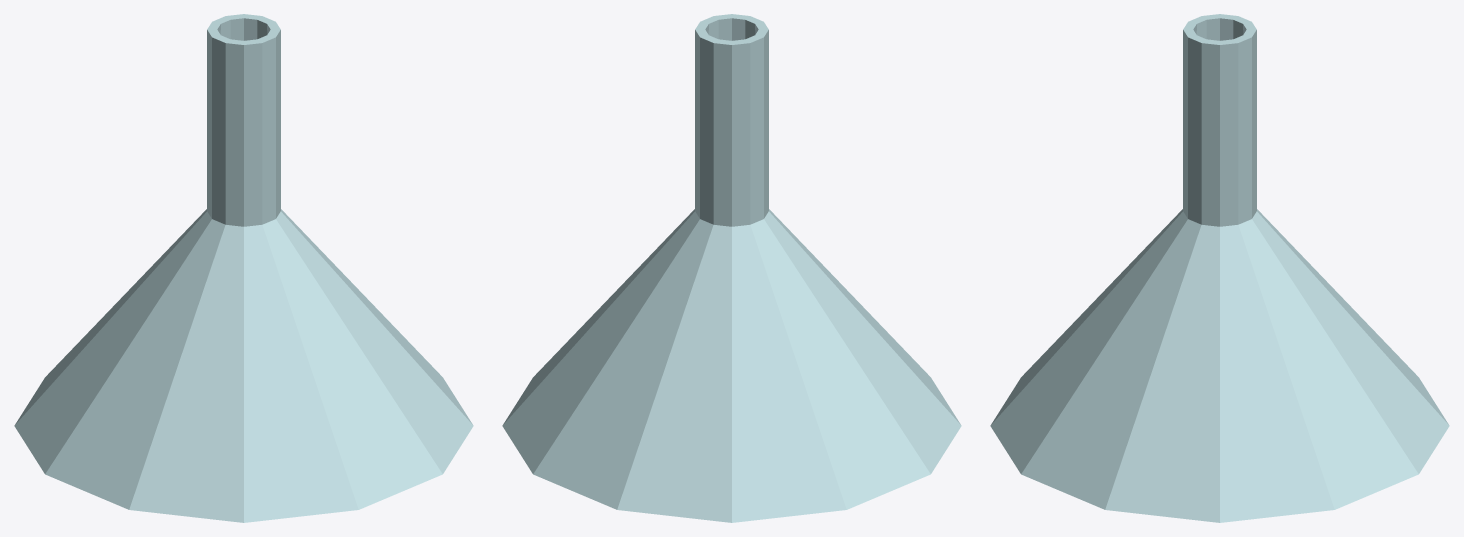
Rendered from BeckerVermelho.fbx.
The picture shows the model from 3 angles, left to right: view 1: azimuth 30°, elevation 25°; view 2: azimuth 150°, elevation 25°; view 3: azimuth 270°, elevation 25°; orthographic projection.
Parts seen in each view (by area): view 1: Becker; view 2: Becker; view 3: Becker.
Part boxes in pixels (x1,y1,x2,y2): Becker: (14, 14, 473, 522); Becker: (502, 14, 961, 522); Becker: (990, 14, 1449, 522).
Size of the model in its own units: 35.12 by 33.43 by 35.12.
